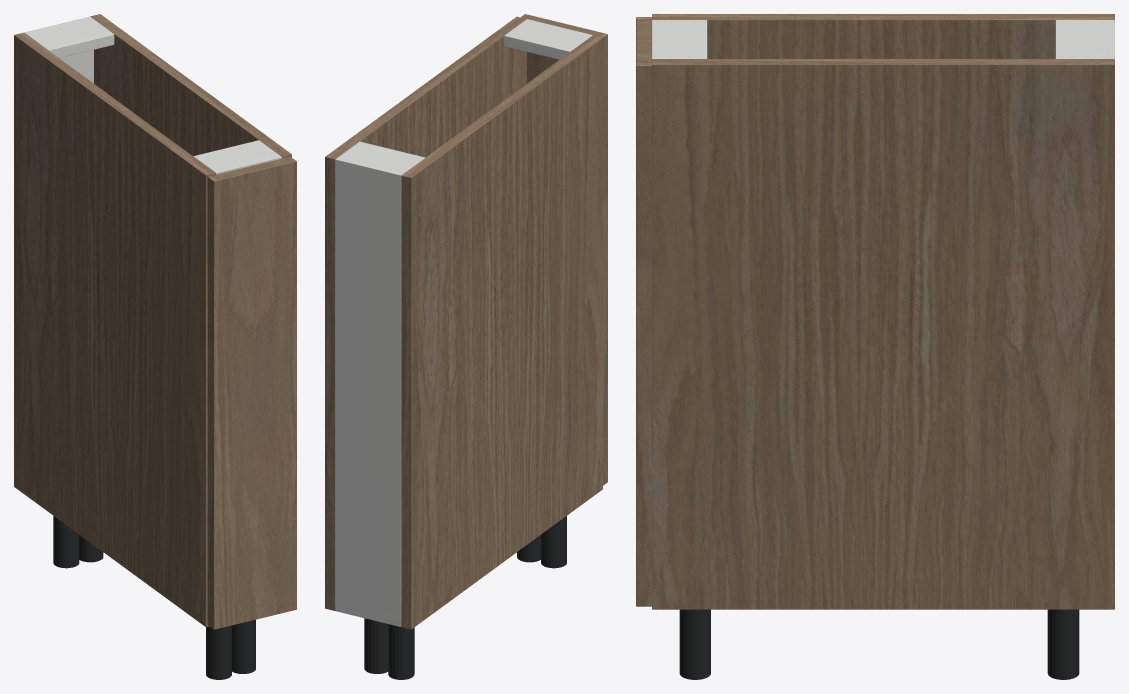
Rendered from oppein-pb-mnw-b06fh.glb.
3 views of the same model, side by side, from view 1: azimuth 30°, elevation 25°; view 2: azimuth 150°, elevation 25°; view 3: azimuth 270°, elevation 25° (orthographic). The views are drawn at different scales.
Parts seen in each view (by area): view 1: Cabinet side, Door, Cabinet side.001, Top support rail, Top support rail.001, Adjustable foot.001, Adjustable foot.003, Adjustable foot, Cabinet back, Adjustable foot.002; view 2: Cabinet side, Cabinet back, Cabinet side.001, Door, Top support rail.001, Adjustable foot, Top support rail, Adjustable foot.002, Adjustable foot.001, Adjustable foot.003; view 3: Cabinet side.001, Cabinet side, Door, Adjustable foot.002, Adjustable foot.003, Top support rail.001, Top support rail.
Boxes of the visible parts, bbox=[...] form: Cabinet side: bbox=[14, 32, 215, 626]; Door: bbox=[207, 156, 296, 629]; Cabinet side.001: bbox=[90, 14, 291, 158]; Top support rail: bbox=[26, 19, 114, 58]; Top support rail.001: bbox=[193, 140, 281, 174]; Adjustable foot.001: bbox=[206, 625, 231, 679]; Adjustable foot.003: bbox=[232, 619, 255, 673]; Adjustable foot: bbox=[53, 516, 79, 568]; Cabinet back: bbox=[24, 16, 93, 83]; Adjustable foot.002: bbox=[79, 535, 103, 562]; Cabinet side: bbox=[401, 35, 602, 629]; Cabinet back: bbox=[335, 156, 403, 626]; Cabinet side.001: bbox=[325, 16, 526, 610]; Door: bbox=[520, 14, 607, 485]; Top support rail.001: bbox=[504, 19, 592, 59]; Adjustable foot: bbox=[388, 624, 414, 679]; Top support rail: bbox=[339, 141, 425, 173]; Adjustable foot.002: bbox=[364, 618, 388, 673]; Adjustable foot.001: bbox=[541, 516, 566, 568]; Adjustable foot.003: bbox=[517, 535, 540, 562]; Cabinet side.001: bbox=[652, 59, 1114, 609]; Cabinet side: bbox=[652, 14, 1114, 58]; Door: bbox=[636, 17, 651, 606]; Adjustable foot.002: bbox=[1047, 609, 1079, 679]; Adjustable foot.003: bbox=[679, 609, 710, 679]; Top support rail.001: bbox=[652, 20, 707, 58]; Top support rail: bbox=[1055, 20, 1109, 58].
Size of the model in its own units: 0.1524 by 0.8763 by 0.6064.
Materials: 3 (1 with a texture image).
